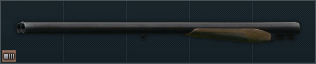MP-43 12ga 750mm barrel: (0, 0, 316, 64)
